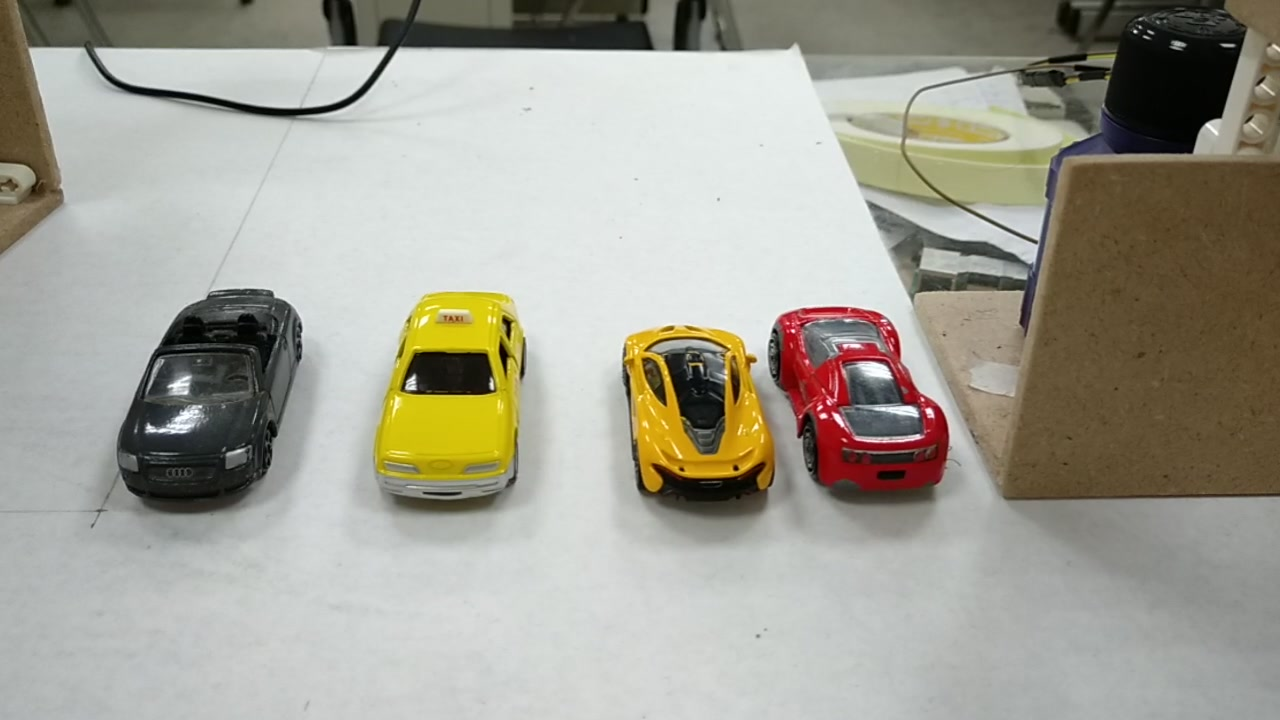car: (768, 297, 949, 498), (118, 296, 301, 493), (372, 295, 529, 515), (621, 324, 775, 506)
